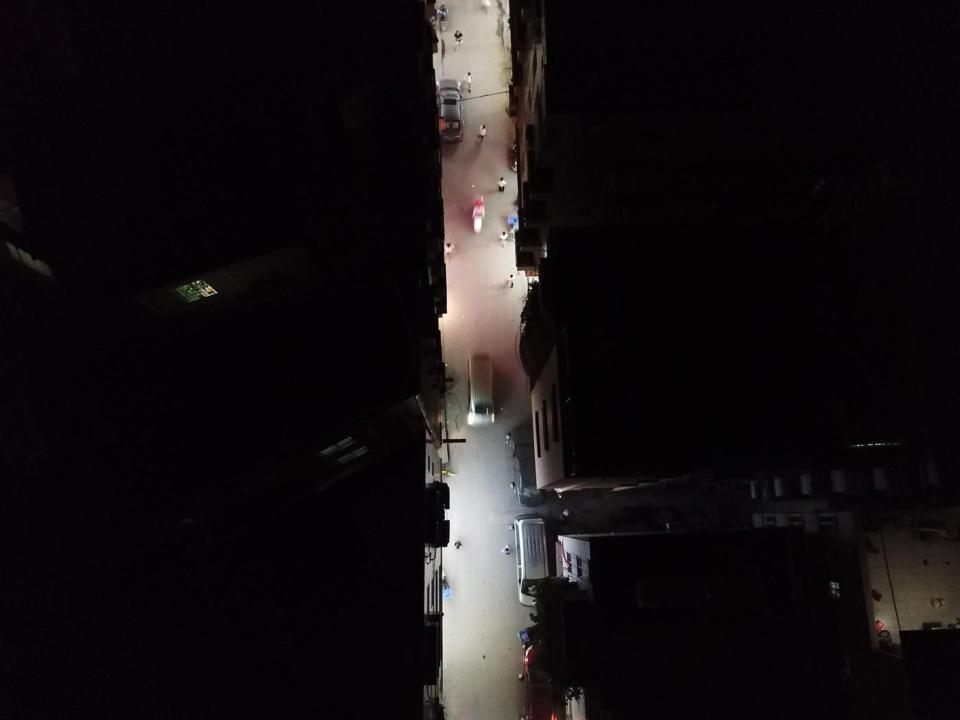car: (520, 643, 565, 720), (511, 425, 547, 508), (434, 78, 464, 142)
van: (514, 513, 554, 607), (467, 352, 495, 425)
